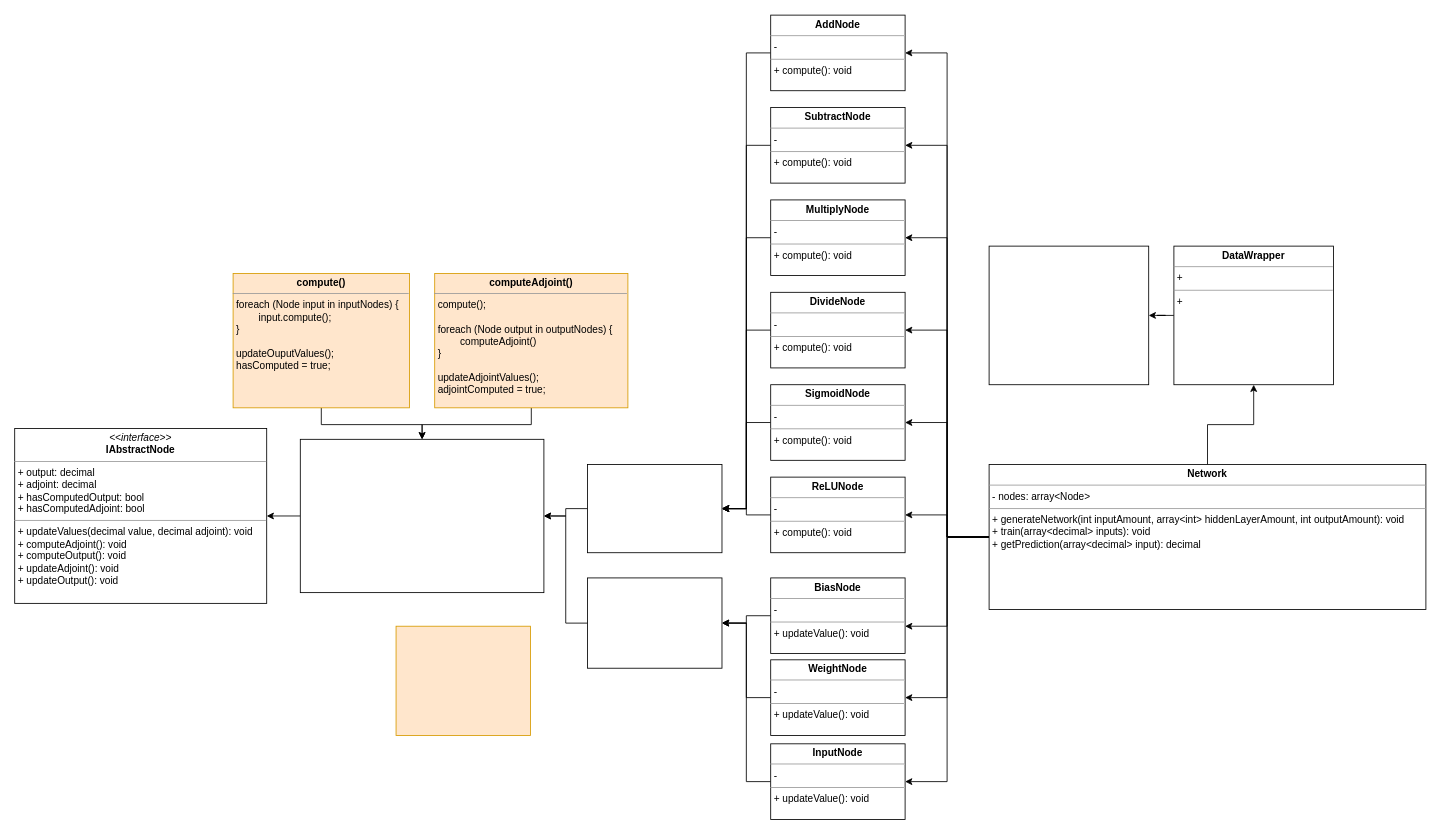
Image size: 1441x834. Some labels were removed from this diagram. The centre of each missing label's shape, as x and y in pixels:
"<<abstract>> ConstantNode - value: decimal + updateValues(): void" belongs at point (654, 622).
"<<abstract>> Node - inputNodes: array<Node> - outputNodes: array<Node>" belongs at point (421, 515).
"<<abstract>> OperationNode - + compute(): void" belongs at point (654, 508).
"FileIO + +" belongs at point (1068, 315).
"Requirements + Struct + Enum + Exception + Generic Datatype + Second Interface" belongs at point (462, 680).
